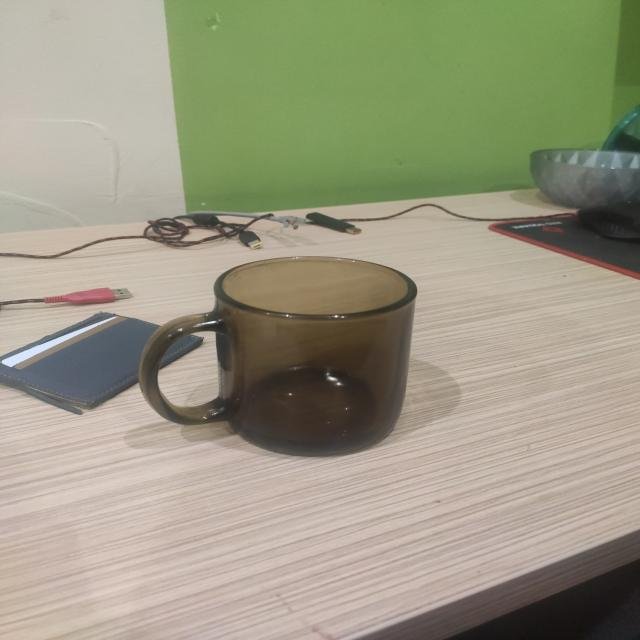cups: (138, 256, 417, 457)
